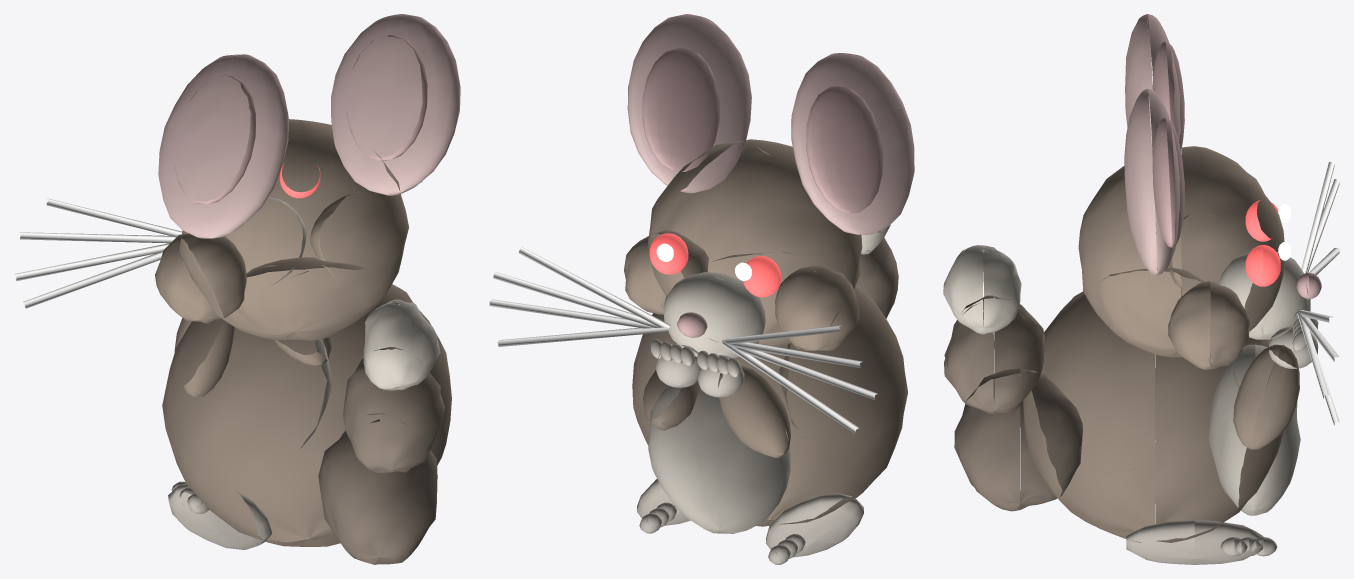
The model's file is pet_chinchilla_brown.glb.
3 renders of one model, left to right at view 1: azimuth 30°, elevation 25°; view 2: azimuth 150°, elevation 25°; view 3: azimuth 270°, elevation 25°, orthographic. The views are drawn at different scales.
Visible parts, largest first — view 1: chinchilla; view 2: chinchilla; view 3: chinchilla.
Boxes of the visible parts, x1,y1,x2,y2 form: chinchilla: (14,14,460,564); chinchilla: (489,14,914,564); chinchilla: (943,14,1339,564).
Bounding box in the file's own units: 0.8416 × 1 × 0.7516.
